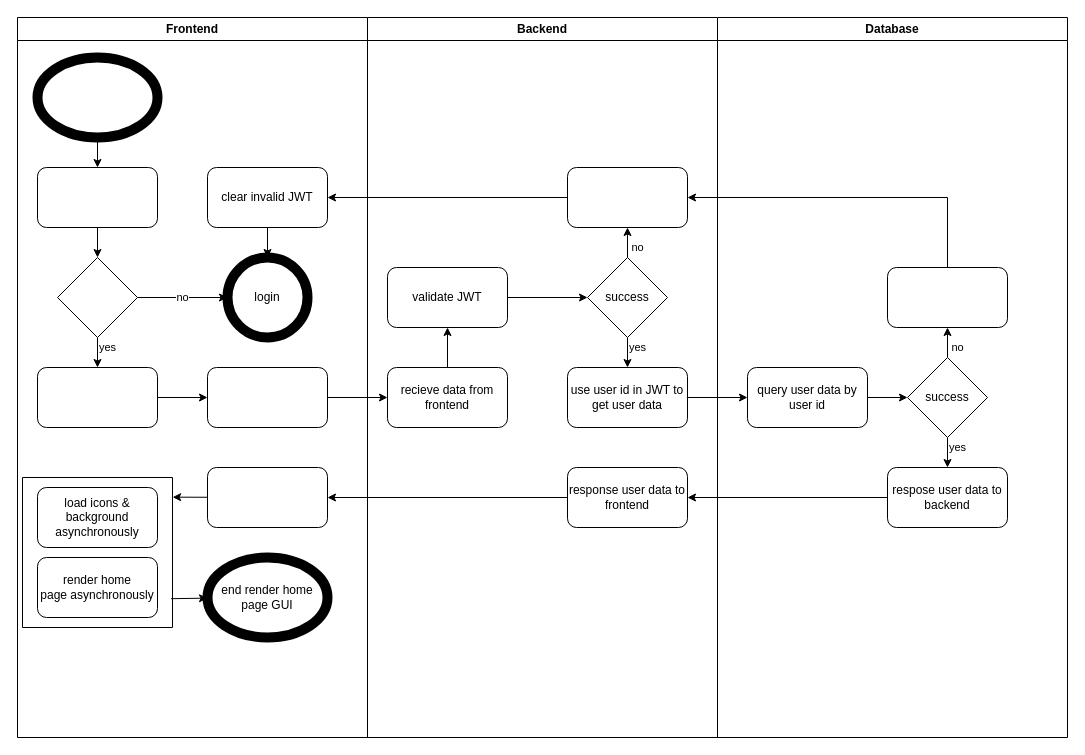
The diagram is 1085 pixels wide and 755 high, and some of its shapes have lost their labels. Each missing label, with the centre of its shape:
check token in cookie: (97,197)
frontend can assume that token is valid: (267,497)
get my profile: (267,397)
get my profile to validate token: (97,397)
have token: (97,297)
response fail: (627,197)
response sql error to backend: (947,297)
start render home page GUI: (97,97)
